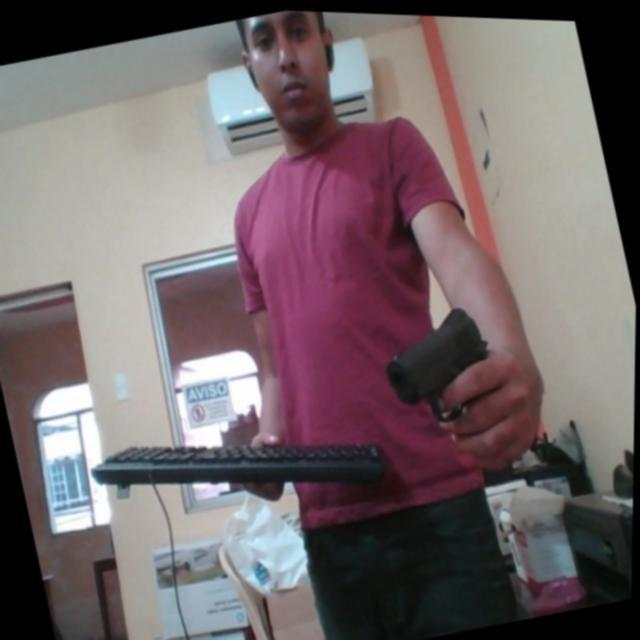weapon: (374, 295, 504, 434)
